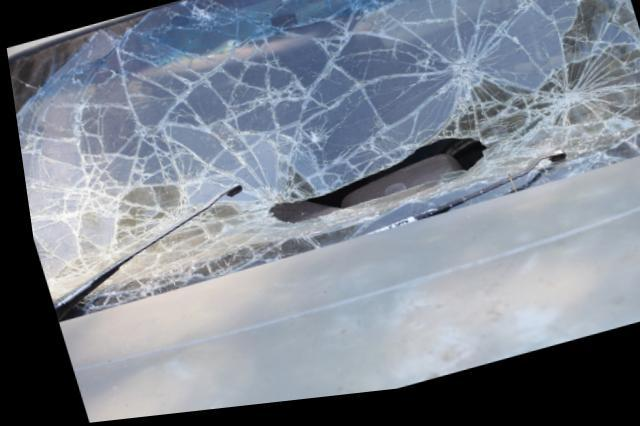glass shatter: (6, 0, 640, 322)
